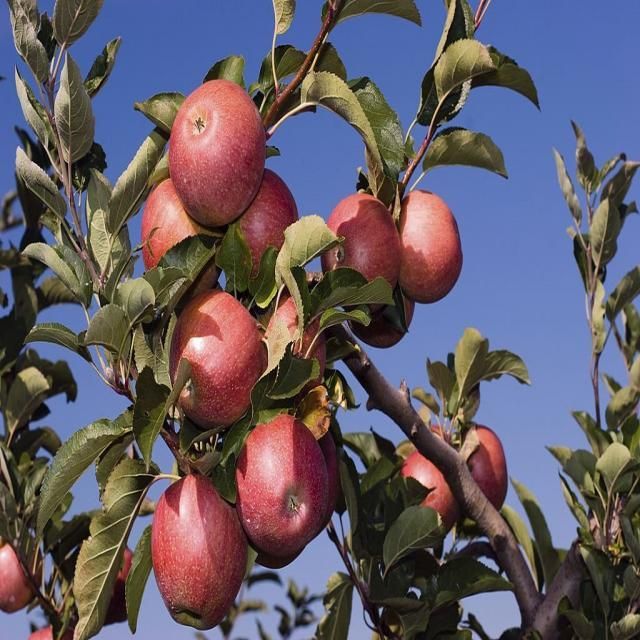Red Apple: (151, 483, 249, 626), (235, 415, 329, 549), (173, 81, 261, 211), (169, 298, 259, 418), (397, 188, 467, 305), (145, 180, 215, 290), (326, 193, 396, 302), (234, 170, 297, 274), (263, 299, 324, 396), (282, 425, 338, 524), (402, 449, 460, 526), (358, 286, 416, 353), (461, 427, 508, 509), (1, 537, 48, 605), (104, 554, 132, 610), (29, 626, 73, 640)
